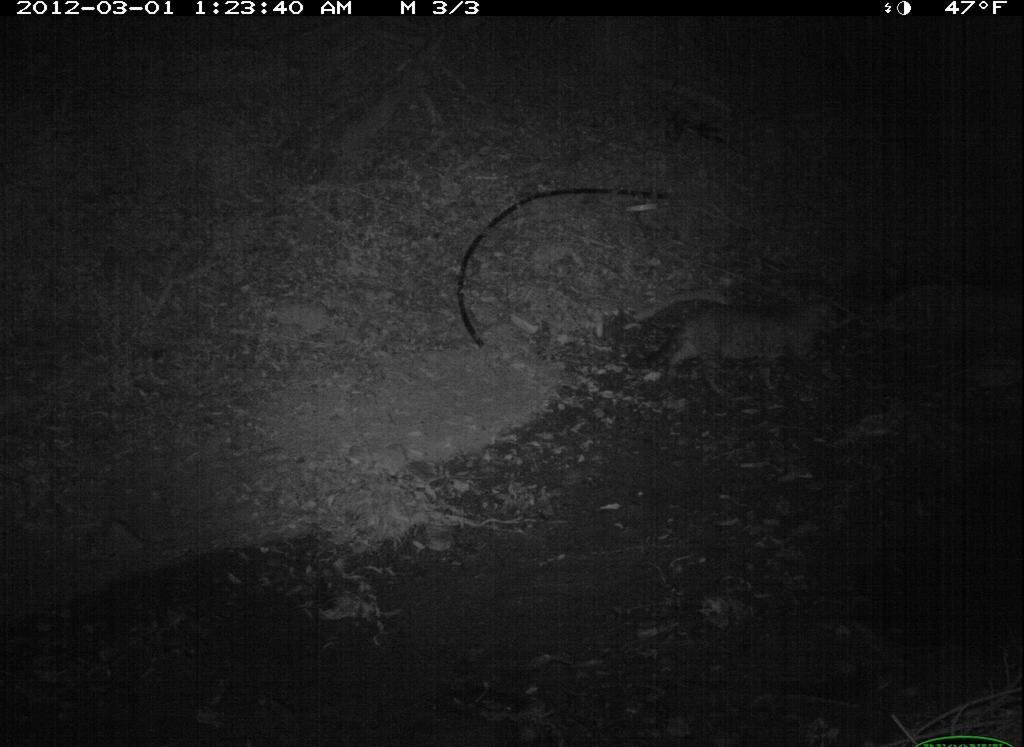cat: (633, 274, 868, 408)
